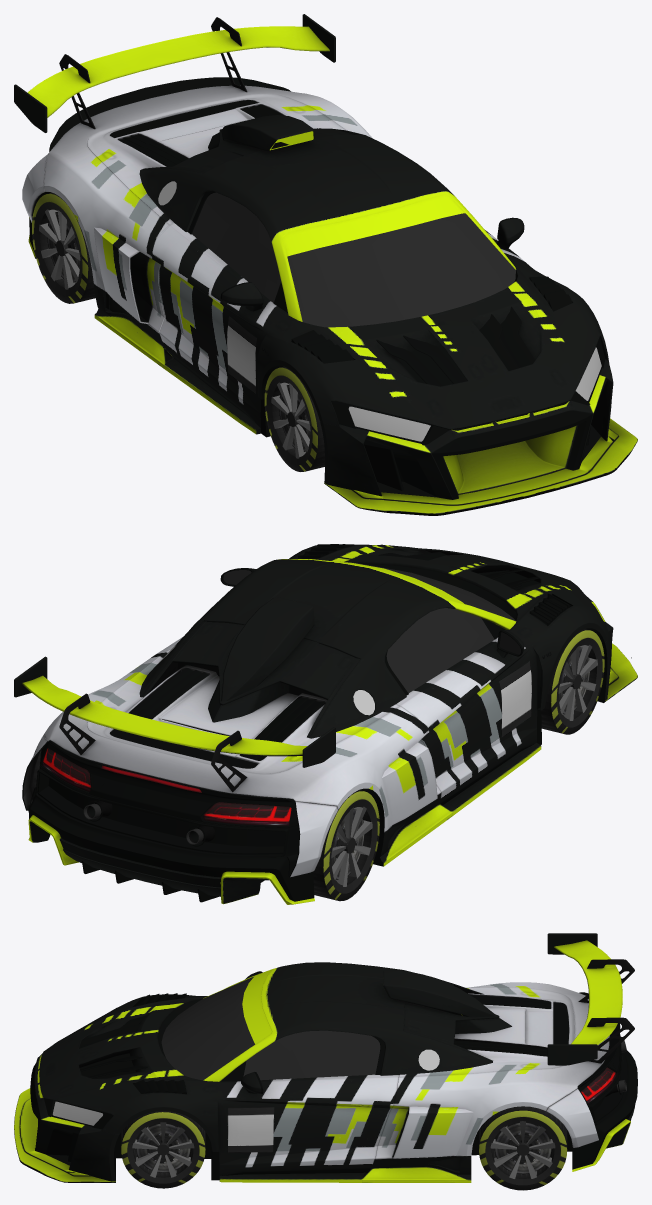
File: car 3.fbx
3 views of the same model, one above another, from view 1: azimuth 30°, elevation 25°; view 2: azimuth 150°, elevation 25°; view 3: azimuth 270°, elevation 25° (orthographic). The views are drawn at different scales.
Visible parts, largest first — view 1: body, model_8_Mesh6, model_8_Mesh5; view 2: body, model_8_Mesh6, model_8_Mesh5; view 3: body, model_8_Mesh8, model_8_Mesh7.
Part boxes in pixels (box(x1,y1,x2,y2)): body: box(14, 14, 637, 515); model_8_Mesh6: box(32, 192, 95, 303); model_8_Mesh5: box(264, 366, 324, 471); body: box(14, 544, 637, 904); model_8_Mesh6: box(313, 790, 379, 901); model_8_Mesh5: box(541, 629, 604, 734); body: box(14, 933, 637, 1182); model_8_Mesh8: box(479, 1106, 567, 1190); model_8_Mesh7: box(121, 1111, 205, 1188).
Bounding box in the file's own units: 287 × 178 × 645.
5 materials, 3 textured.
